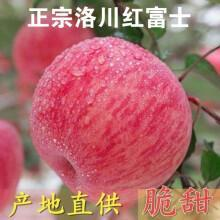apple: (26, 36, 193, 204)
